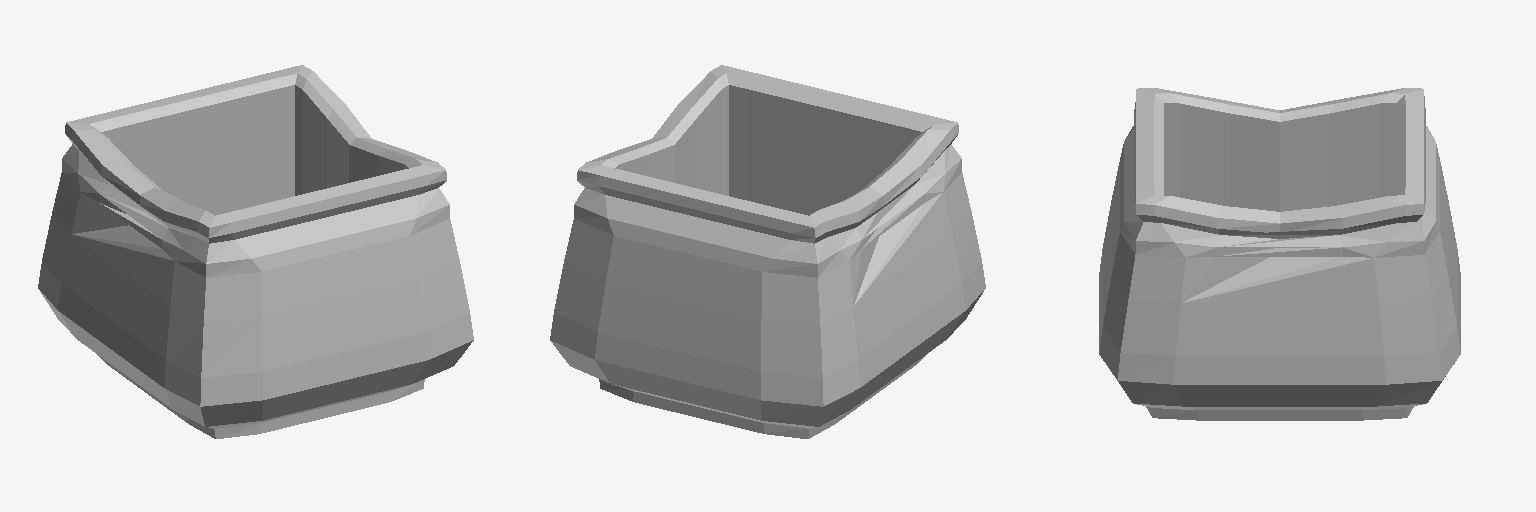
Rendered from basket1.obj.
3 views of the same model, side by side, from view 1: azimuth 30°, elevation 25°; view 2: azimuth 150°, elevation 25°; view 3: azimuth 270°, elevation 25° (orthographic).
Parts seen in each view (by area): view 1: Cube_Cube.001; view 2: Cube_Cube.001; view 3: Cube_Cube.001.
Part boxes in pixels (x1,y1,x2,y2): Cube_Cube.001: (38,65,473,438); Cube_Cube.001: (550,65,985,438); Cube_Cube.001: (1099,88,1460,420).
Bounding box in the file's own units: 0.4906 × 0.3606 × 0.5296.